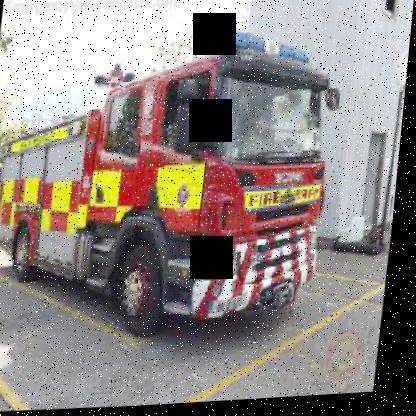emergency: (0, 23, 353, 378)
